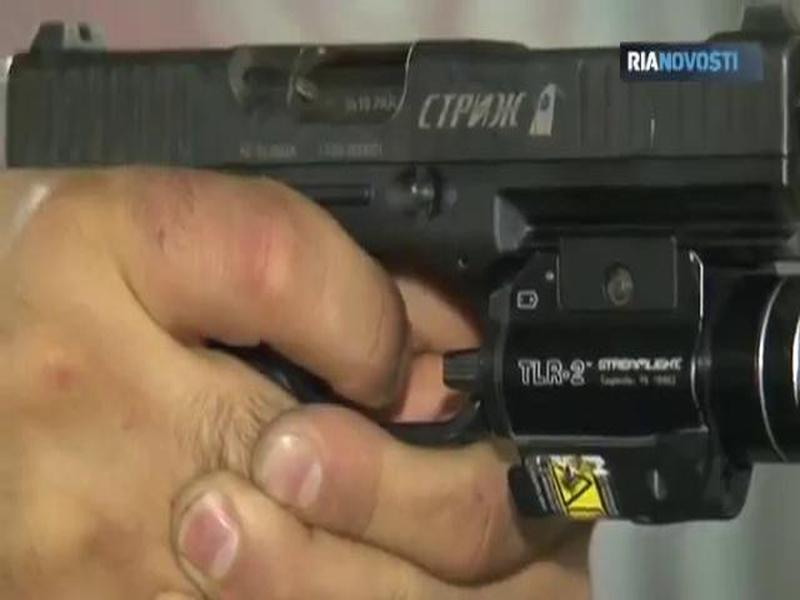Pistola: (7, 14, 800, 505)
